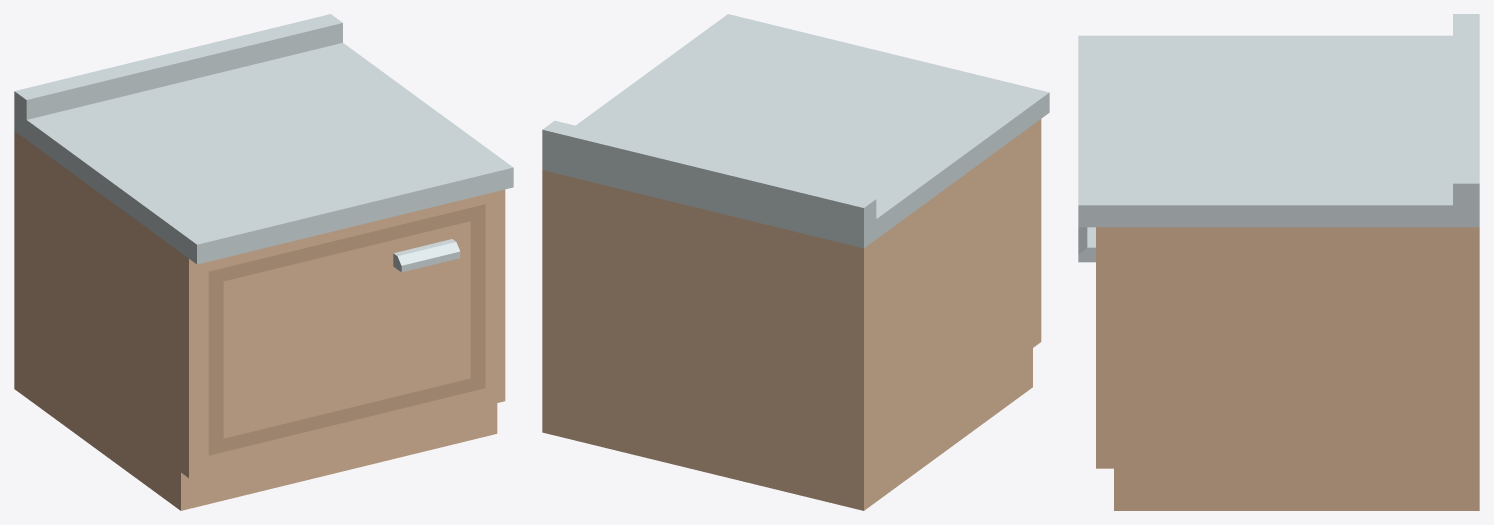
File: kitchenCabinet-col.glb
3 views of the same model, side by side, from view 1: azimuth 30°, elevation 25°; view 2: azimuth 150°, elevation 25°; view 3: azimuth 270°, elevation 25° (orthographic). The views are drawn at different scales.
Visible parts, largest first — view 1: kitchenCabinet-col; view 2: kitchenCabinet-col; view 3: kitchenCabinet-col.
Boxes of the visible parts, x1=… form: kitchenCabinet-col: x1=14, y1=14, x2=513, y2=510; kitchenCabinet-col: x1=542, y1=14, x2=1049, y2=510; kitchenCabinet-col: x1=1078, y1=14, x2=1479, y2=510.
Size of the model in its own units: 0.5 by 0.45 by 0.5.
